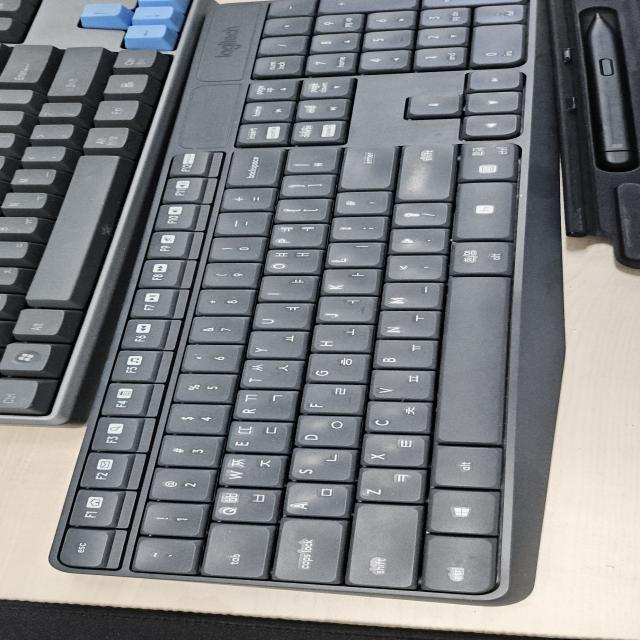Keyboard: (5, 1, 629, 608)
